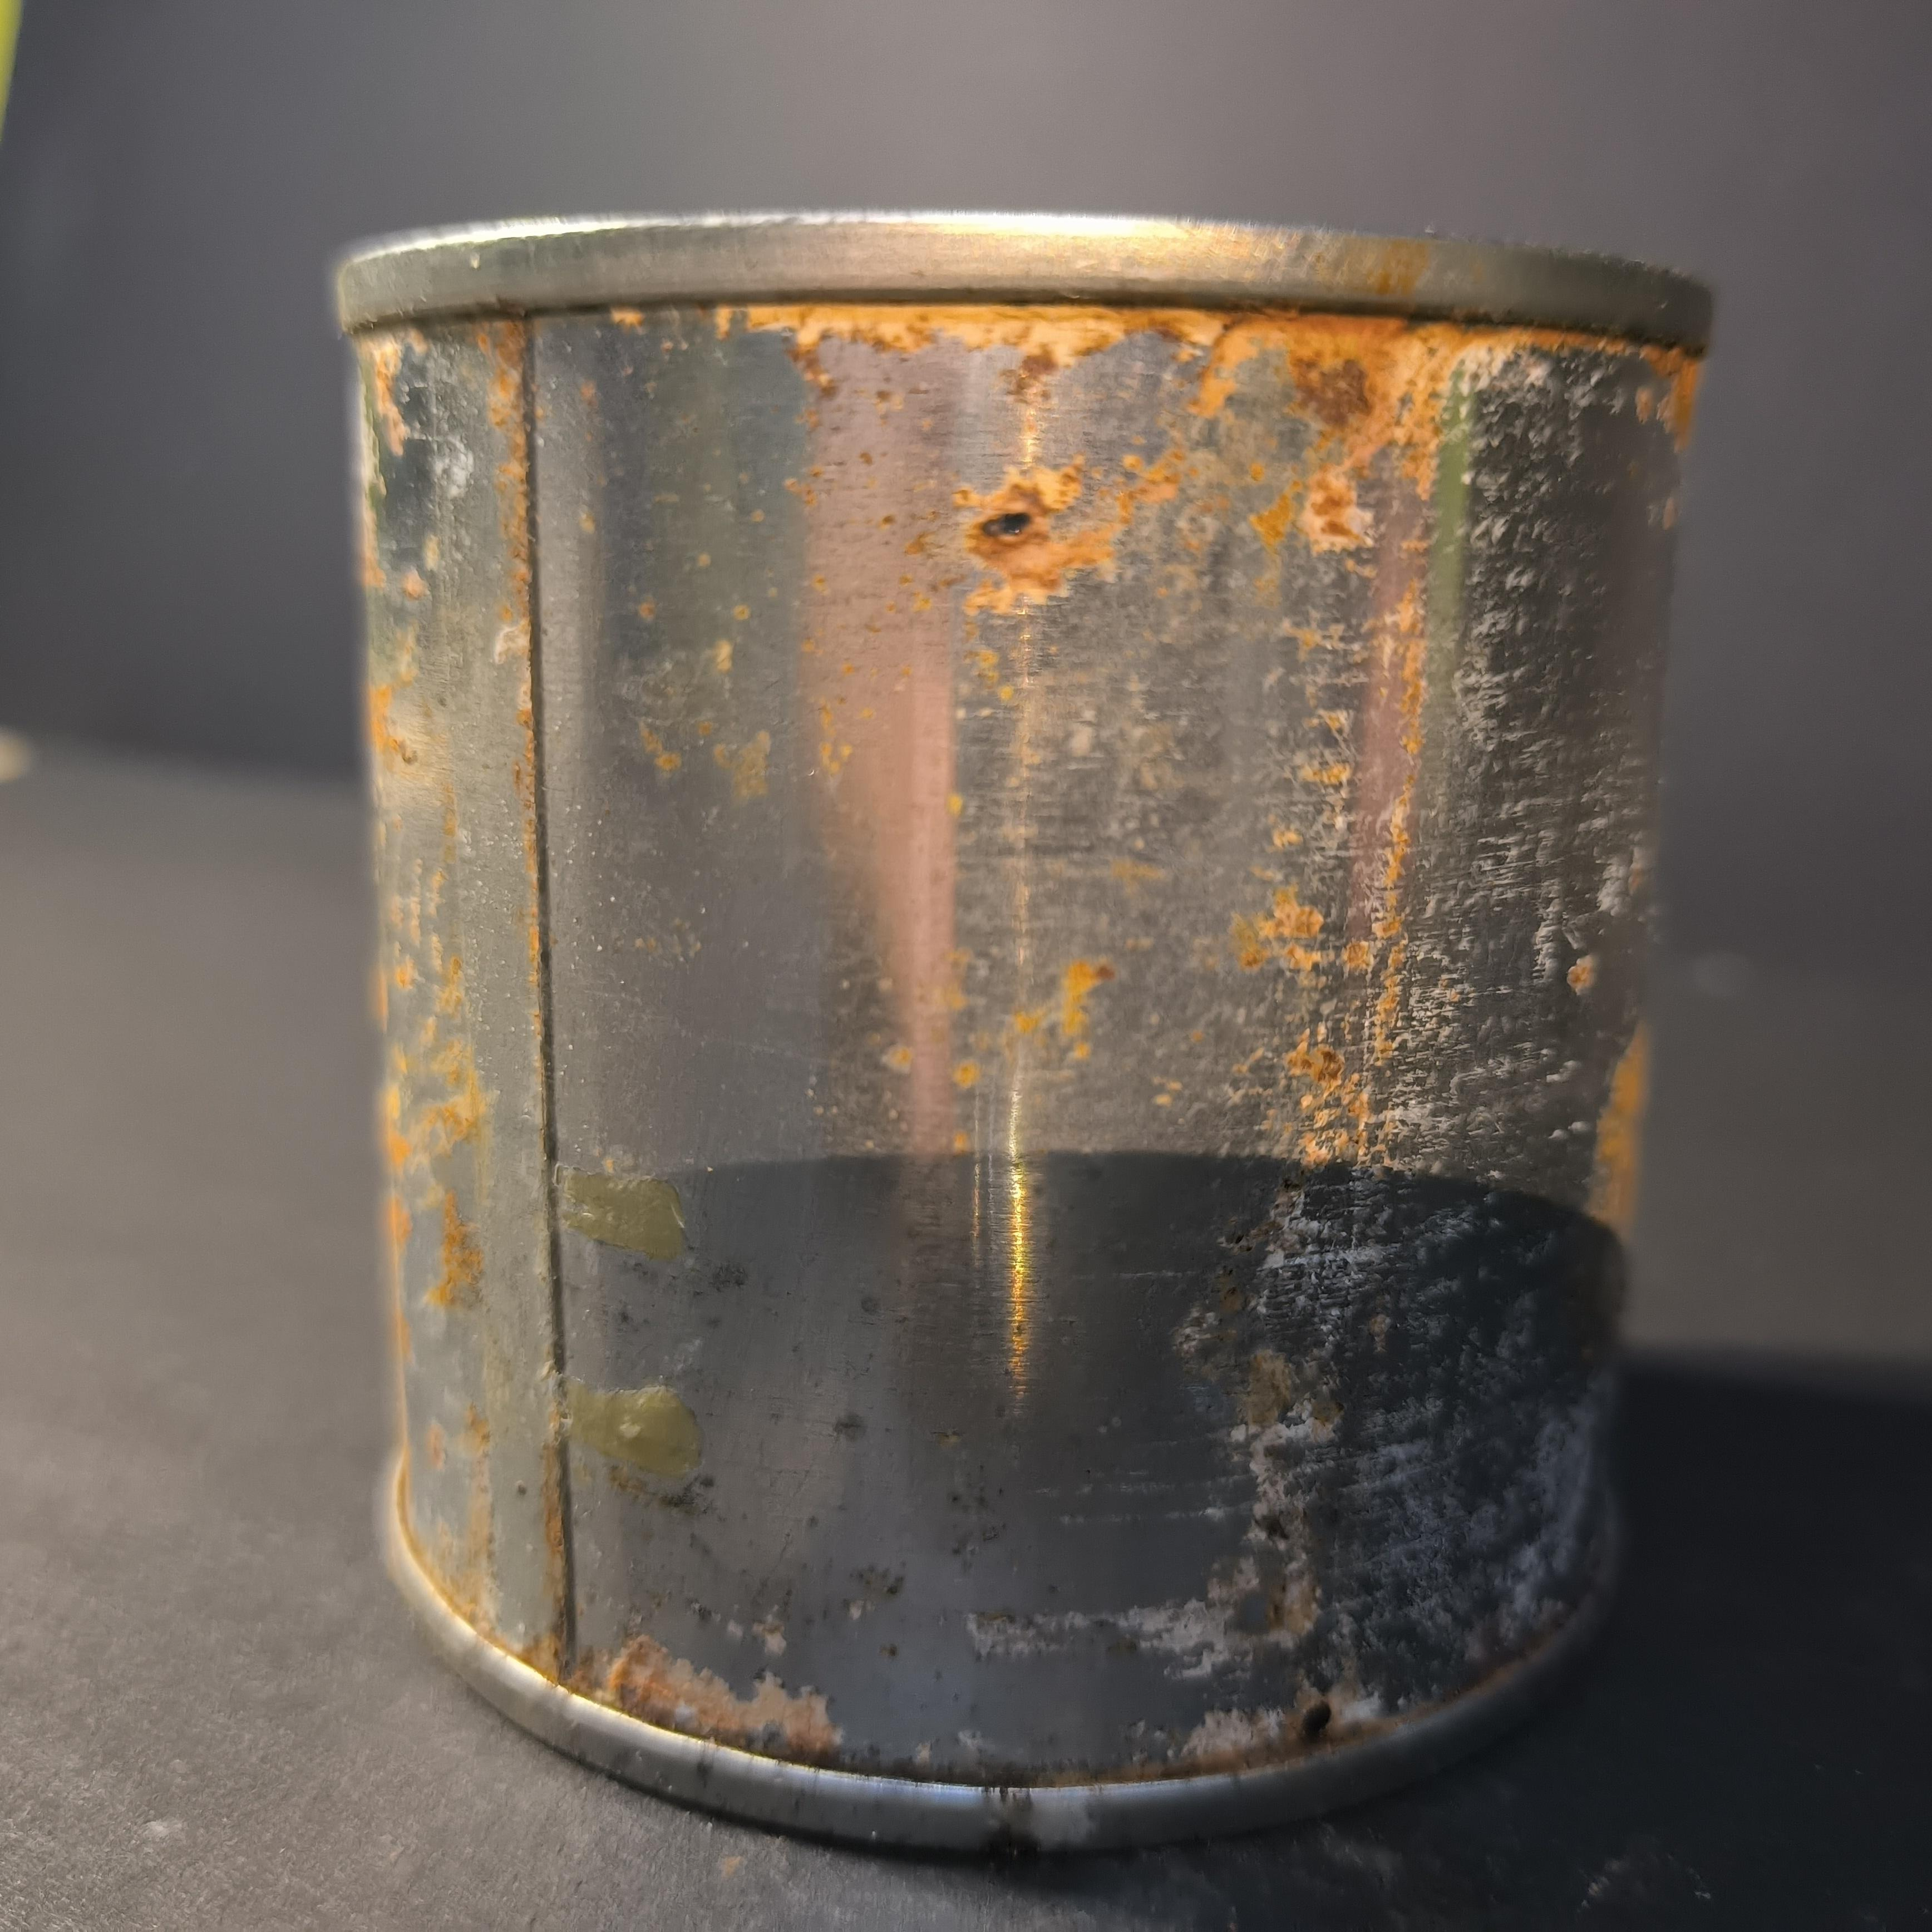Rusted: (301, 180, 1750, 1895)
